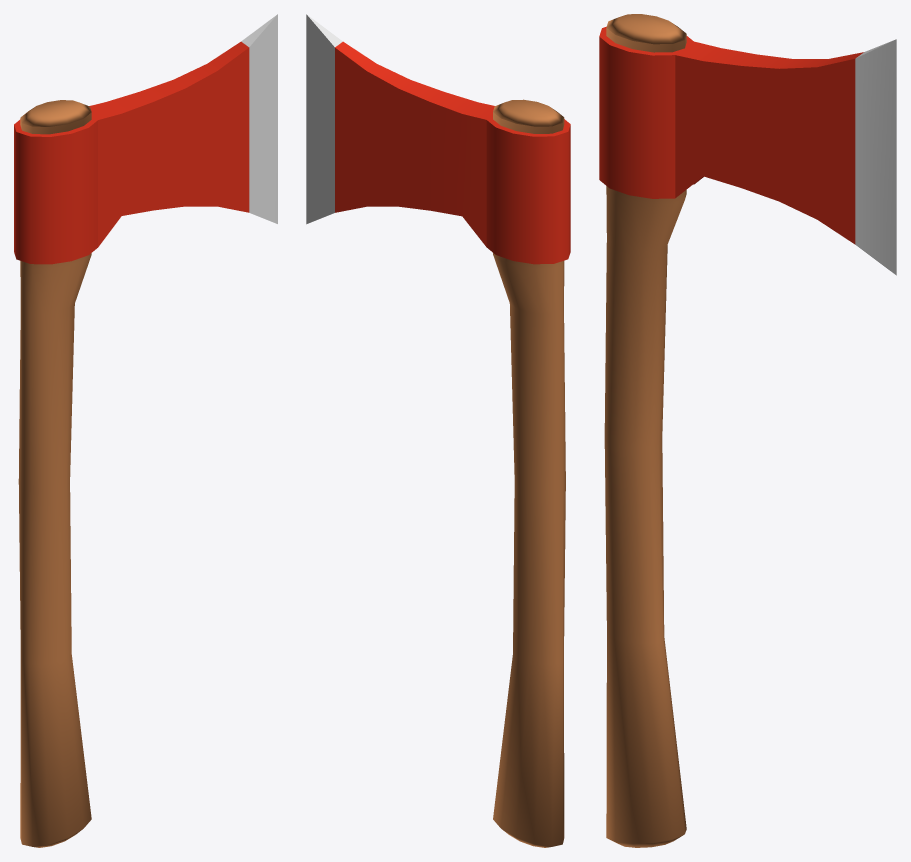
File: Axe.fbx
3 views of the same model, side by side, from view 1: azimuth 30°, elevation 25°; view 2: azimuth 150°, elevation 25°; view 3: azimuth 330°, elevation 25° (orthographic). The views are drawn at different scales.
Parts seen in each view (by area): view 1: Circle.001, Circle; view 2: Circle.001, Circle; view 3: Circle.001, Circle.
Part boxes in pixels (x1=…): Circle.001: x1=14, y1=14, x2=277, y2=264; Circle: x1=18, y1=100, x2=91, y2=847; Circle.001: x1=306, y1=14, x2=570, y2=264; Circle: x1=493, y1=99, x2=565, y2=847; Circle.001: x1=599, y1=26, x2=896, y2=275; Circle: x1=604, y1=14, x2=686, y2=847.
Size of the model in its own units: 768 by 2165 by 159.
